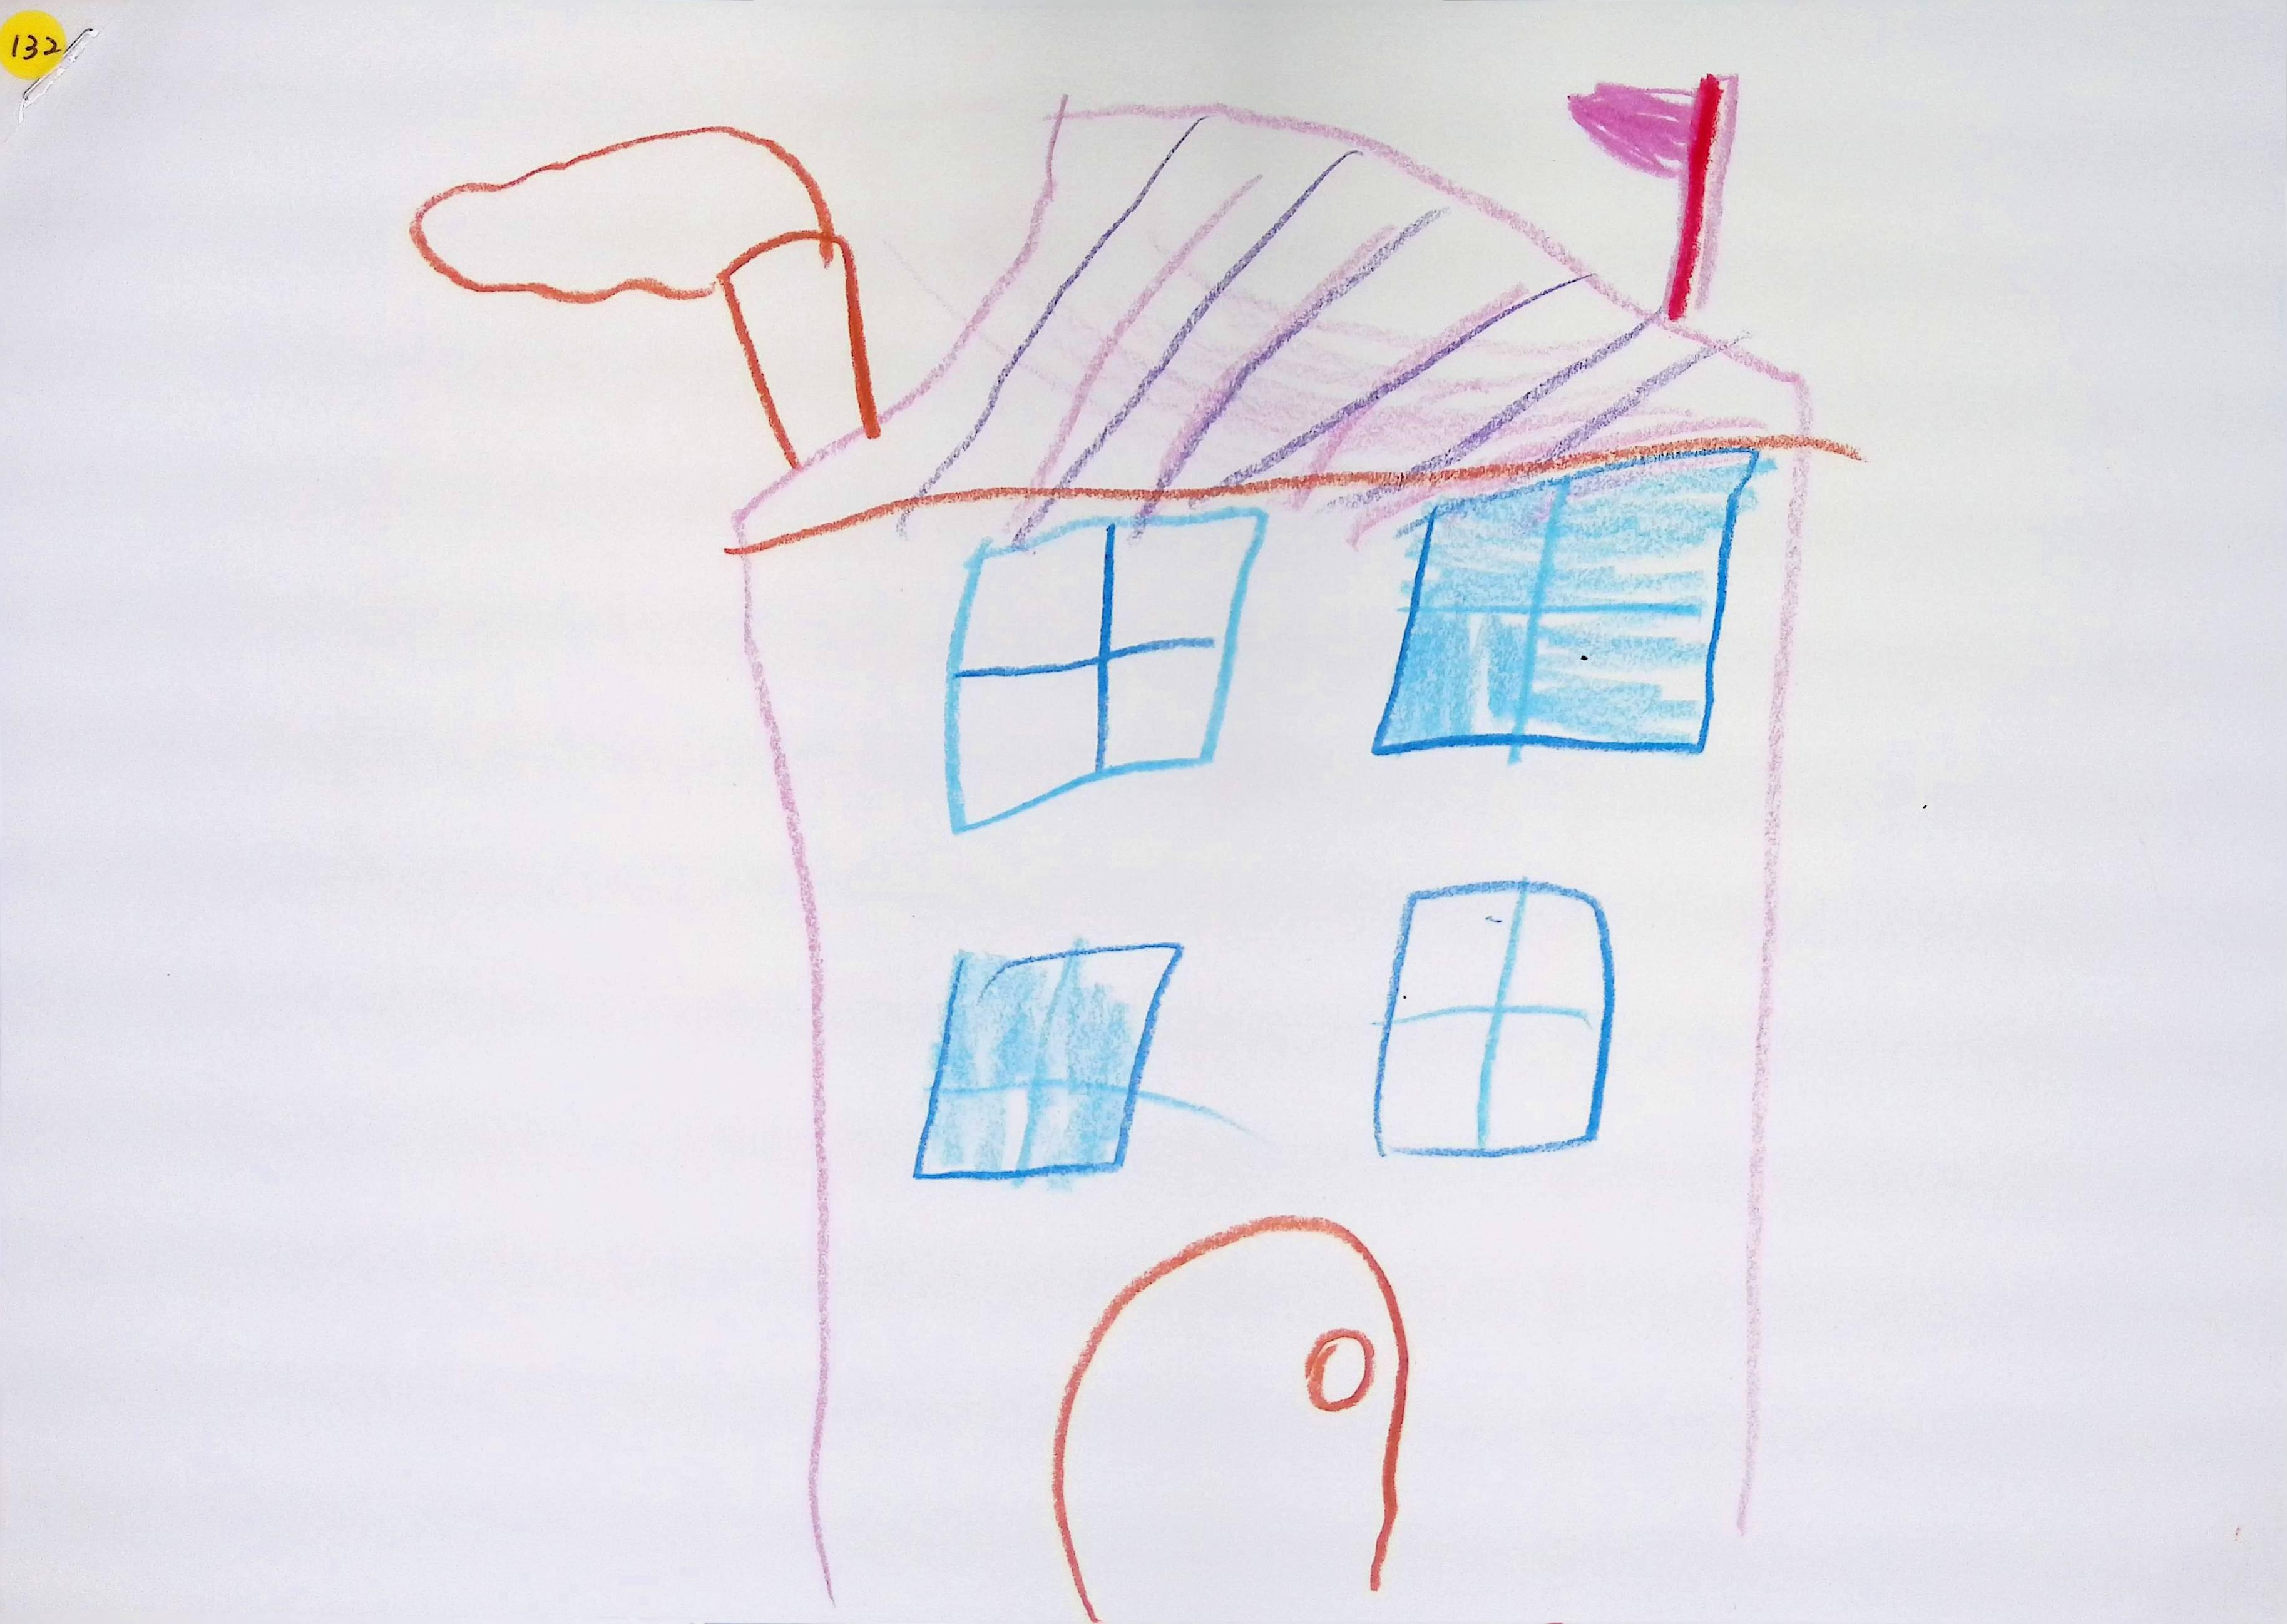chimney: (724, 227, 882, 457)
door: (1062, 1232, 1403, 1622)
house: (722, 104, 1846, 1619)
roof: (728, 97, 1835, 561)
wall: (738, 445, 1819, 1624)
window: (1375, 448, 1765, 758), (946, 508, 1266, 831), (1376, 879, 1615, 1156), (914, 944, 1181, 1178)
